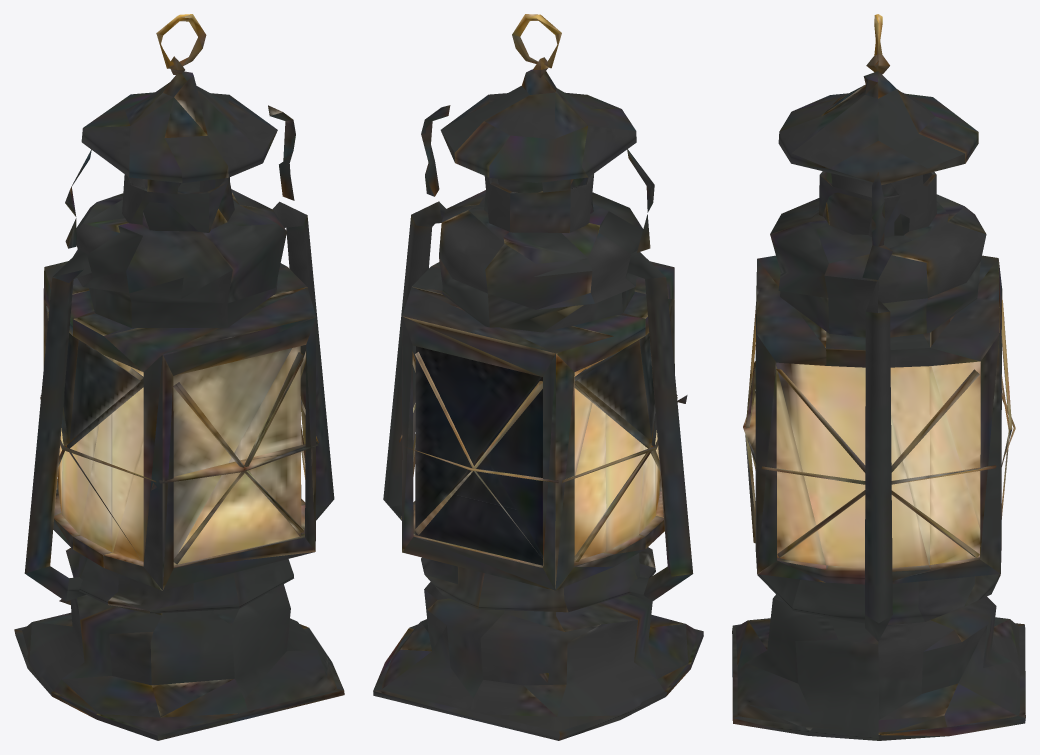
The model's file is lantern.lod1.glb.
3 views of the same model, side by side, from view 1: azimuth 30°, elevation 25°; view 2: azimuth 150°, elevation 25°; view 3: azimuth 270°, elevation 25° (orthographic).
Bounding box in the file's own units: 0.1893 × 0.38 × 0.1525.
1 material, 1 textured.
